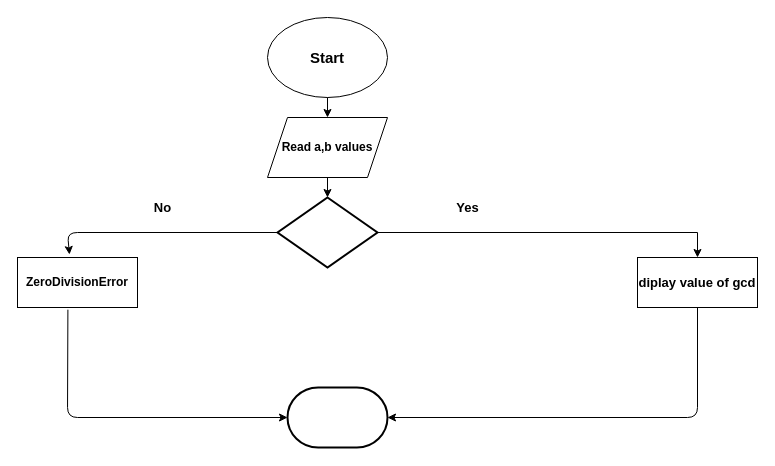
This 775x466 diagram has some shape labels left out. Each missing label, with the centre of its shape:
End: point 337,417
typecheck: point 327,232
